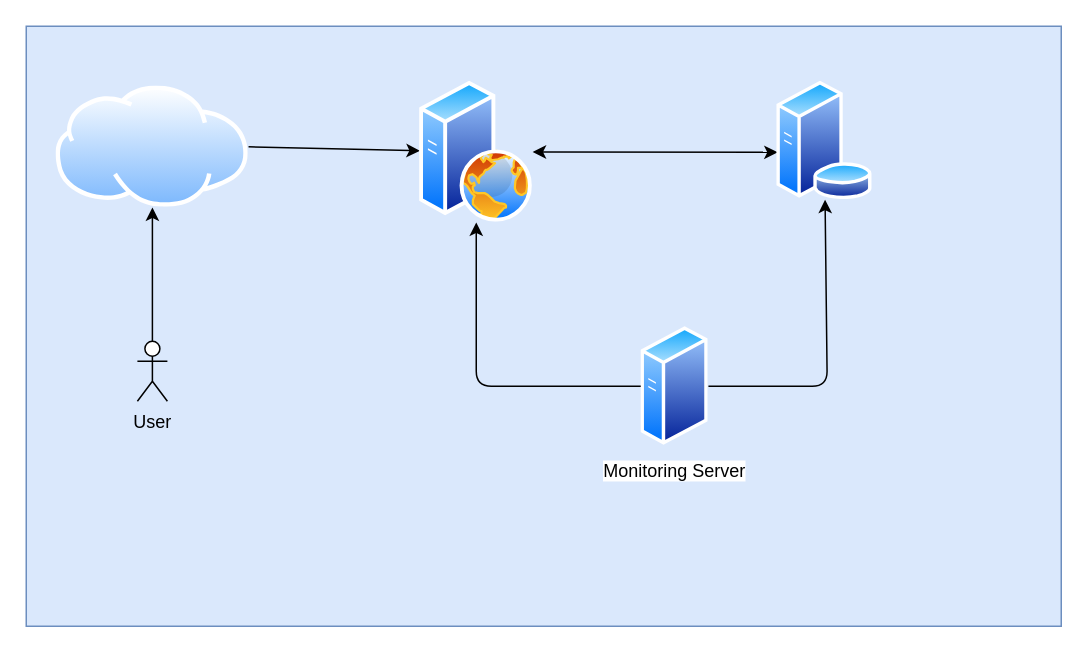
This 1088x653 diagram has some shape labels left out. The shapes that lost their labels are listed below. From the top down, each one's box as (x1, y1, x2, y2) in pixels, then its label:
(56, 86, 248, 207): Internet
(419, 81, 532, 222): Web Server
